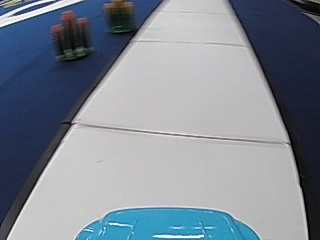corn: (52, 9, 92, 62), (102, 0, 135, 33)
